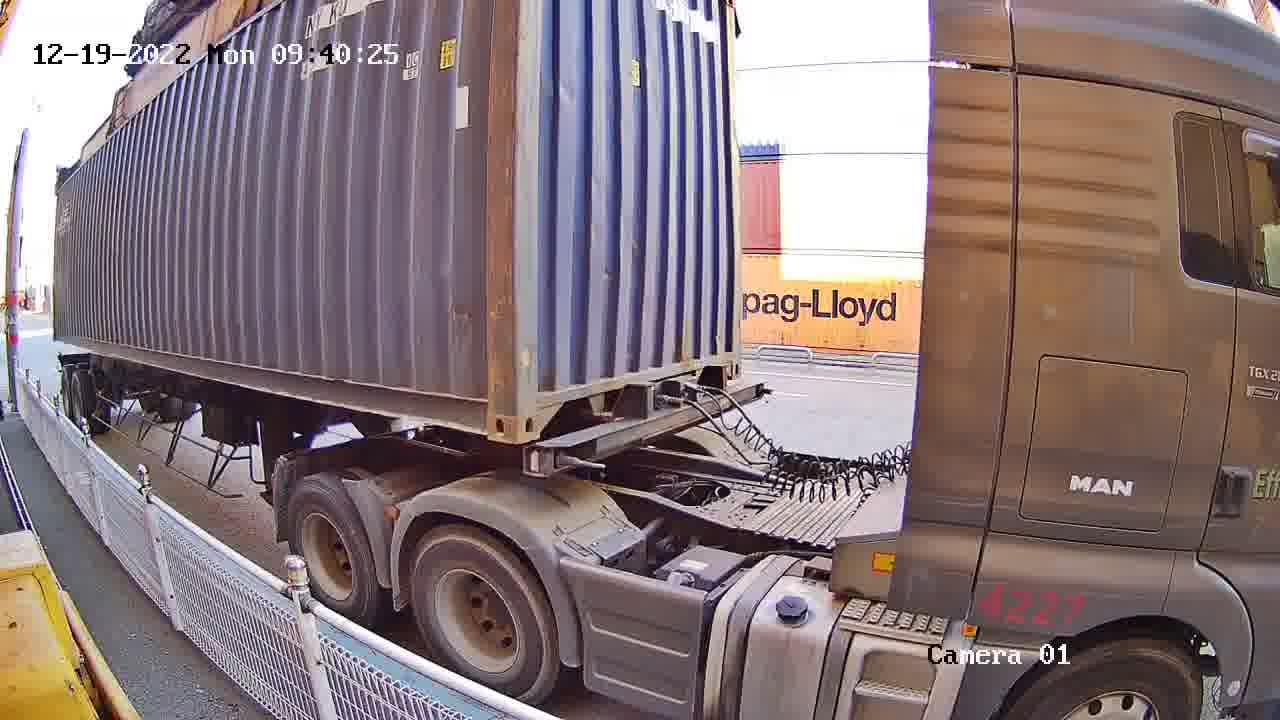Chassis: (520, 376, 765, 476)
Cone: (525, 446, 577, 475)
Hole_L: (519, 370, 571, 442)
Hole_R: (459, 377, 520, 444), (716, 339, 745, 382)
Tire: (411, 530, 553, 695), (282, 490, 375, 617)
